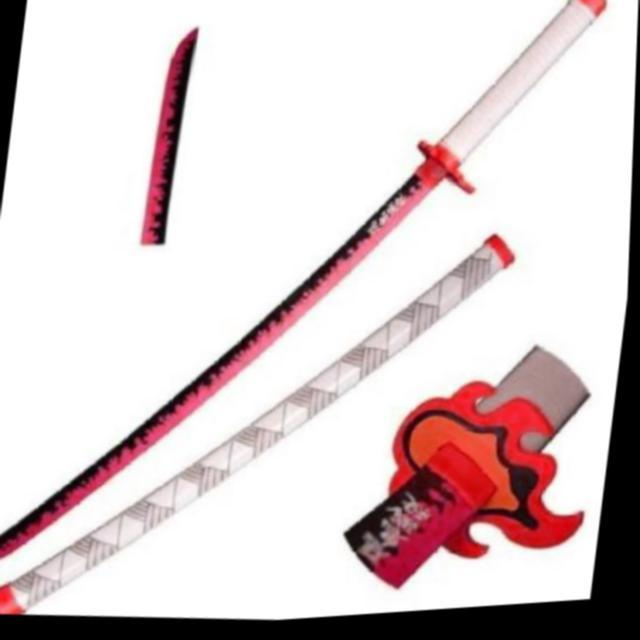weapon: (0, 0, 614, 609)
